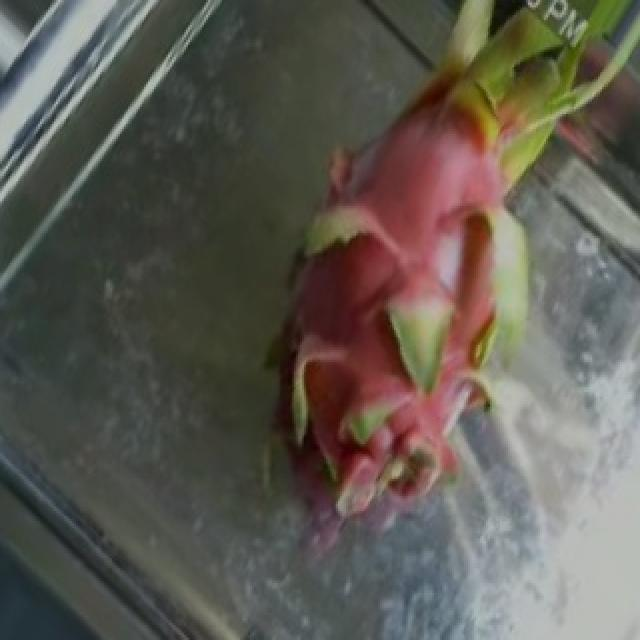fruit: (228, 2, 640, 397)
